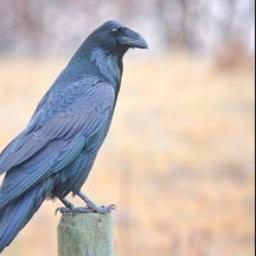Crow: (0, 16, 152, 256)
